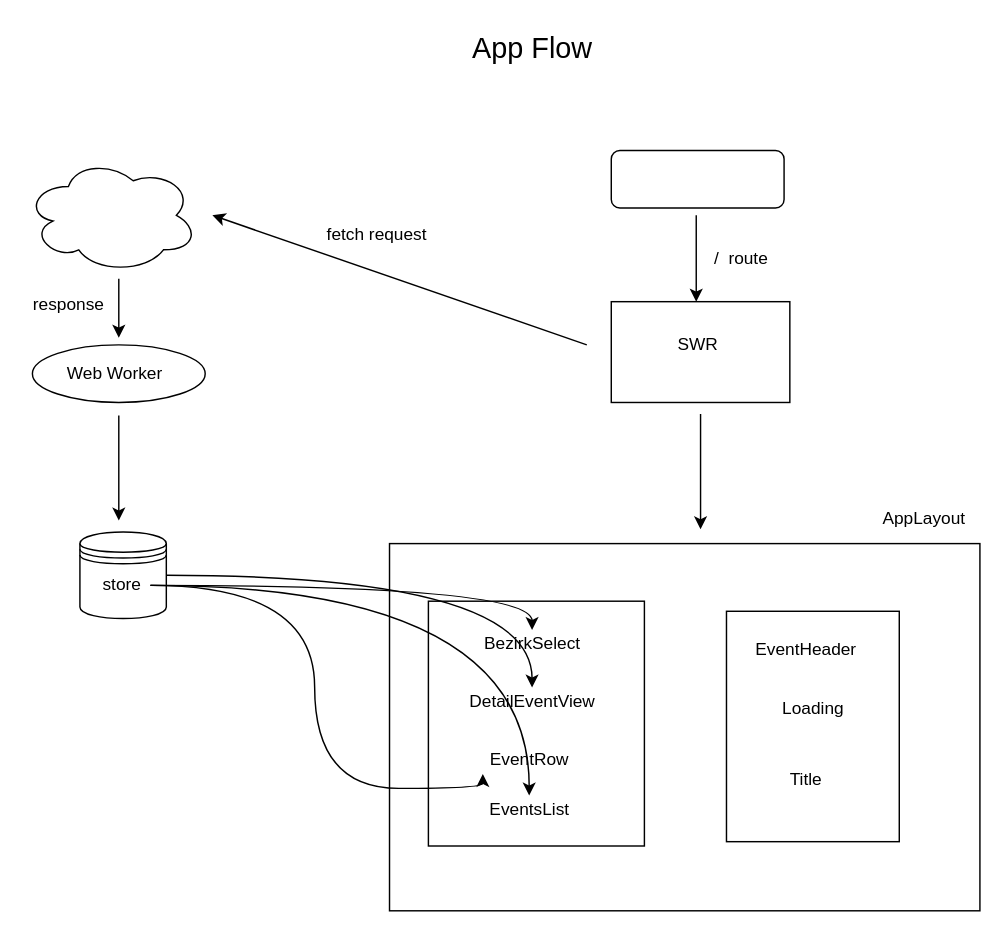
This 1005x936 diagram has some shape labels left out. Each missing label, with the centre of its shape:
"API" belongs at [111,214].
"index" belongs at [697,178].
